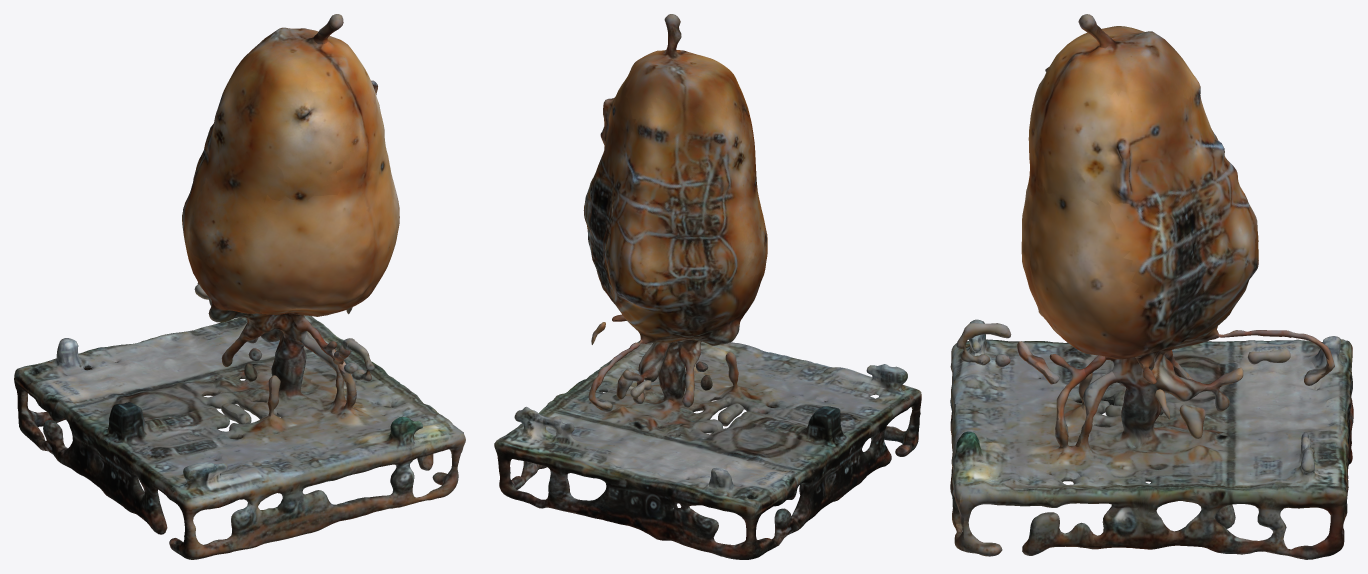
3 views of the same model, side by side, from view 1: azimuth 30°, elevation 25°; view 2: azimuth 150°, elevation 25°; view 3: azimuth 270°, elevation 25° (orthographic). The views are drawn at different scales.
Parts seen in each view (by area): view 1: geometry_0; view 2: geometry_0; view 3: geometry_0.
Boxes of the visible parts, box(x1,y1,x2,y2) form: geometry_0: box(14, 14, 465, 559); geometry_0: box(494, 14, 921, 559); geometry_0: box(950, 14, 1353, 559).
Size of the model in its own units: 0.57 by 0.8654 by 0.6205.
Materials: 1 (1 with a texture image).
